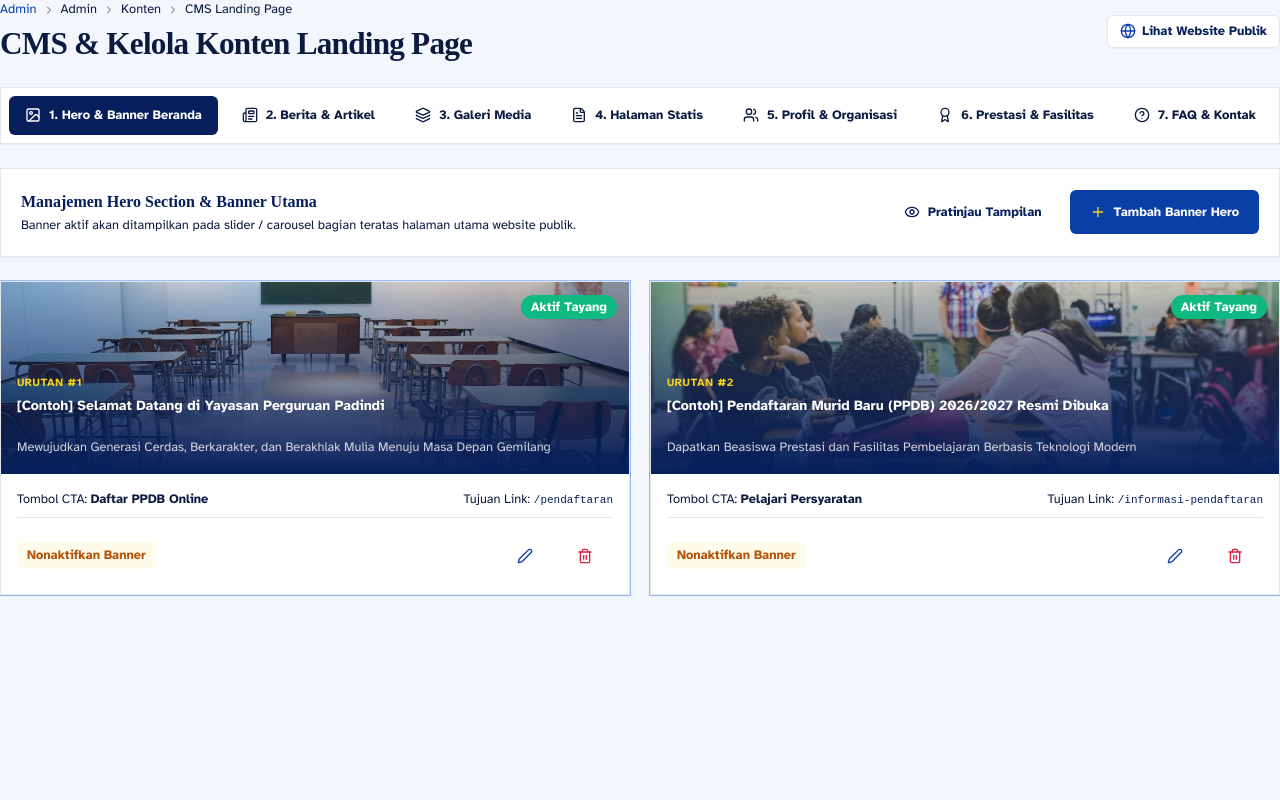
Test: CmsPage — Manajemen Konten Landing Page › dapat beralih ke tab Berita & Artikel dan Profil
The image size is (1280, 800).
Click the button "2. Berita & Artikel" at (308, 115), box [226,96,391,135]
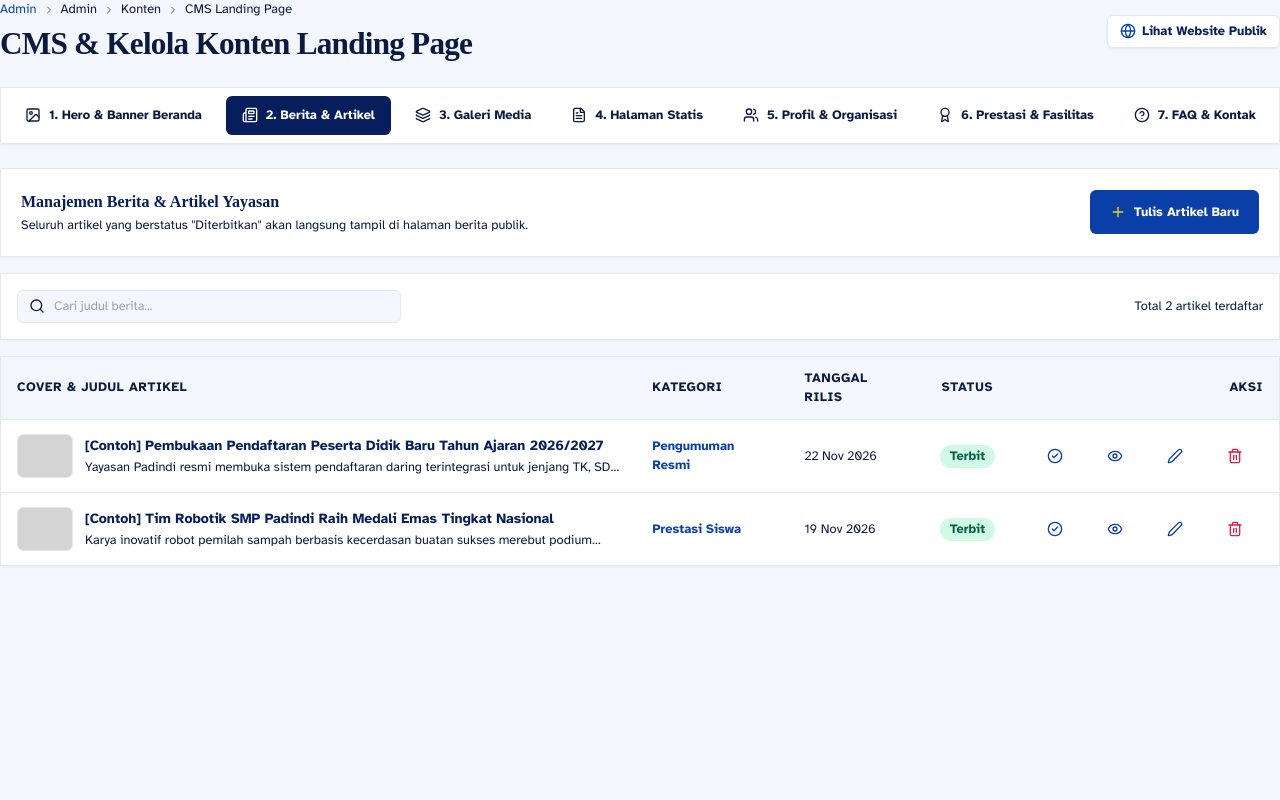
Expected: the heading "Manajemen Berita & Artikel Yayasan" is shown, [21,193,279,210]
Click the button "5. Profil & Organisasi" at (820, 115), box [727,96,913,135]
(page scrolled)
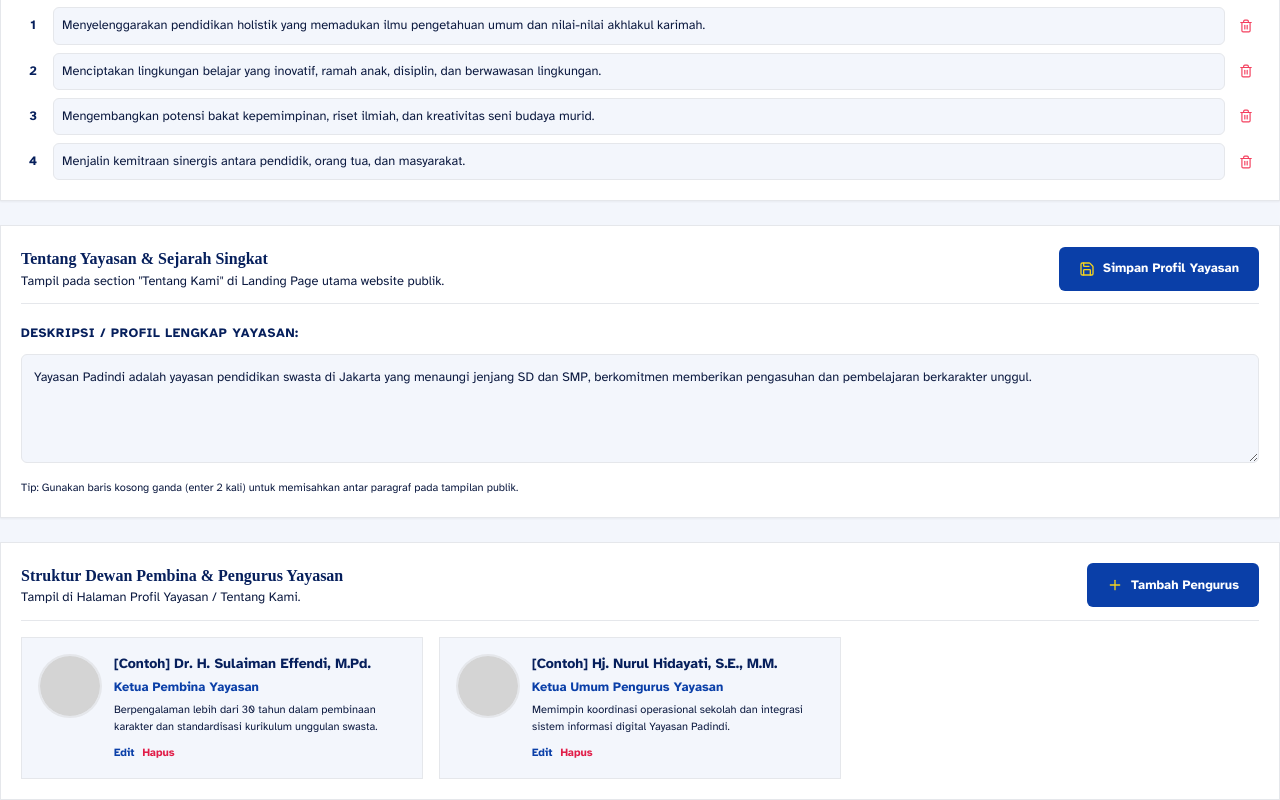
Expected: the heading "Struktur Dewan Pembina & Pengurus Yayasan" is shown, [21,563,343,588]
